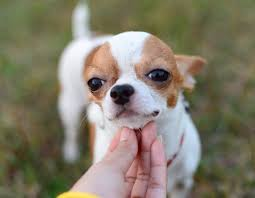chihuahua: (44, 1, 219, 191)
